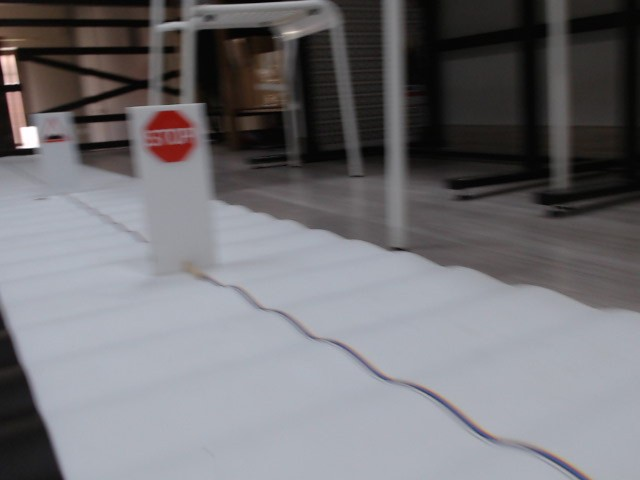Nerov: (40, 116, 71, 144)
Stop: (144, 111, 197, 164)
